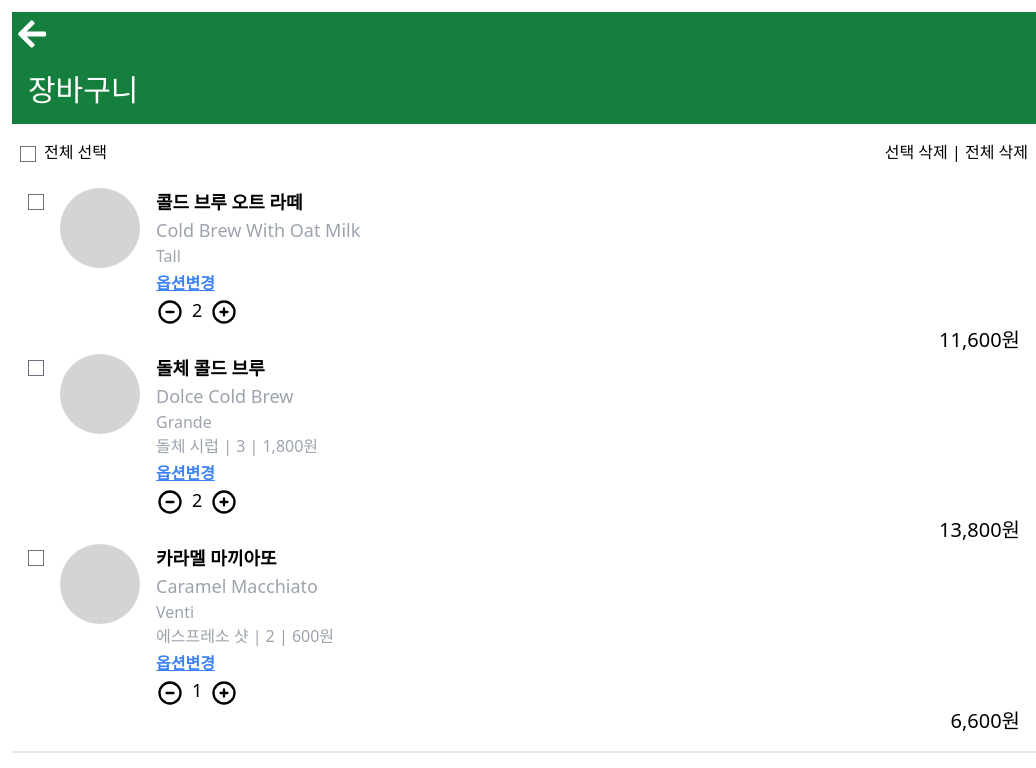
Test case: 기능 테스트 › 수량 조절
Step 1. Click the button with test id "add-product-count-0" → (224, 311), box [210,296,238,326]
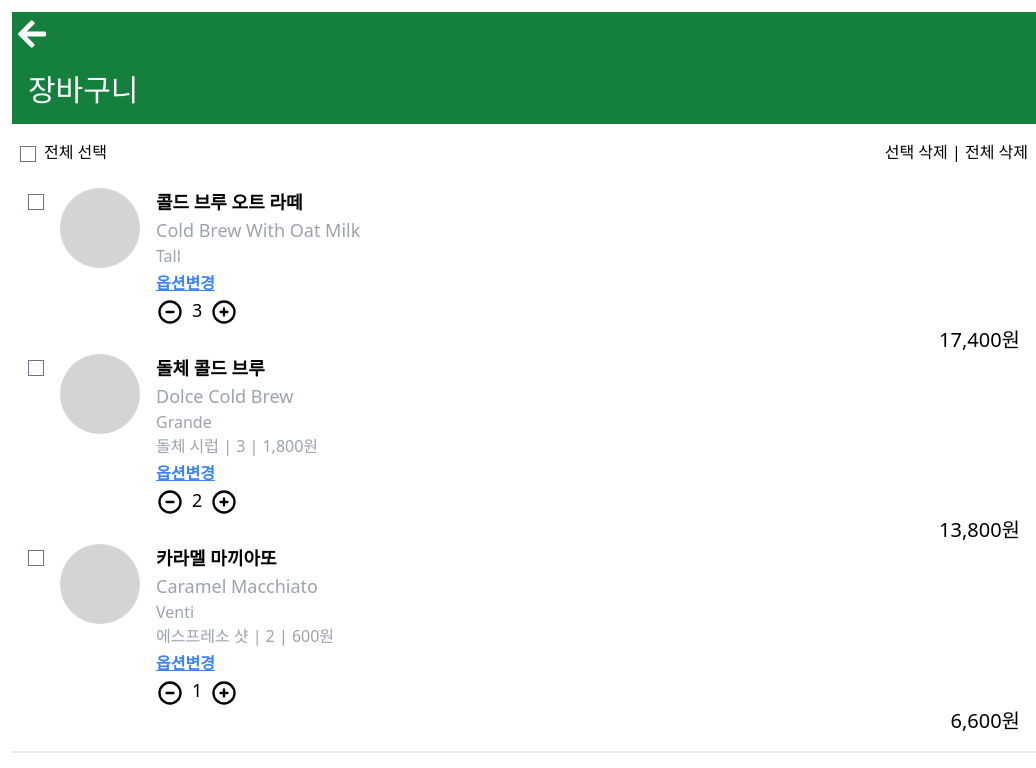
Step 2. Click the button with test id "add-product-count-0" → (224, 311), box [210,296,238,326]
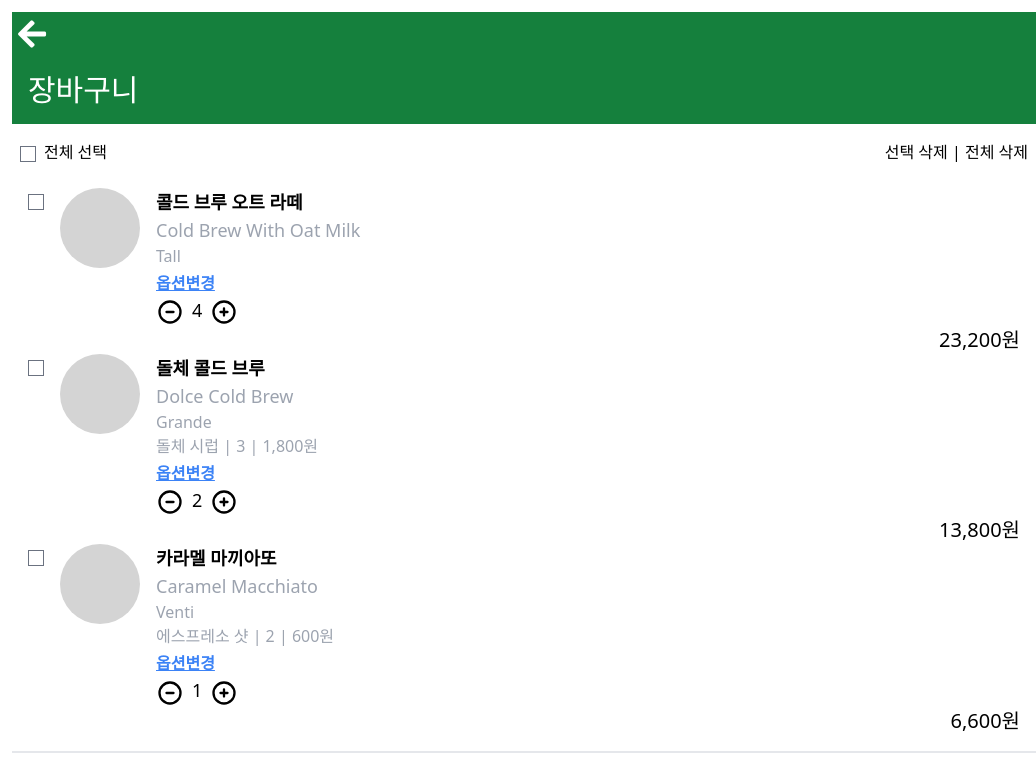
Step 3. Click the button with test id "add-product-count-0" → (224, 311), box [210,296,238,326]
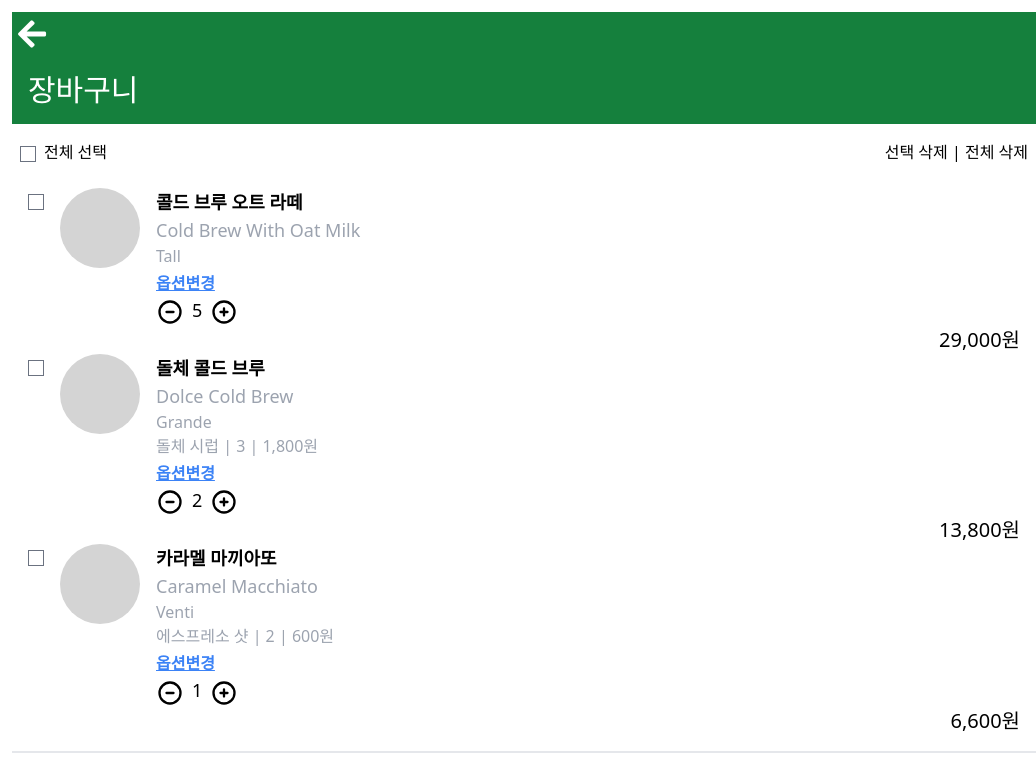
Step 4. Click the button with test id "subtract-product-count-0" → (170, 311), box [156,296,184,326]
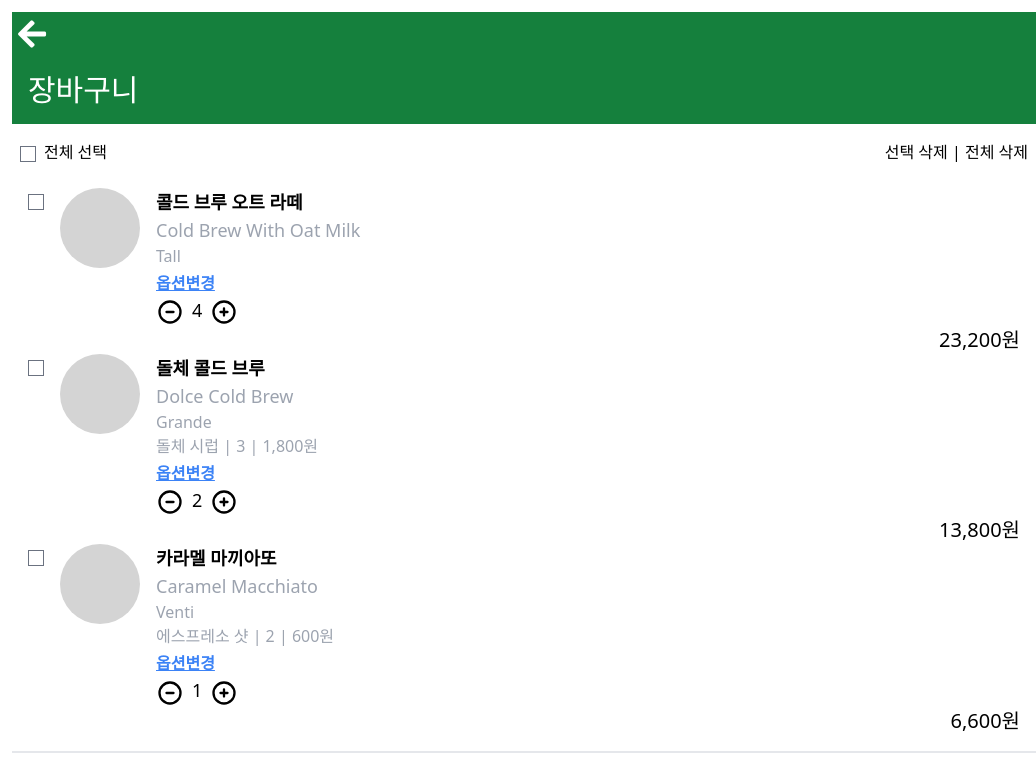
Now the text with test id "product-price-0" reads "23,200원", box [939,326,1020,353]
